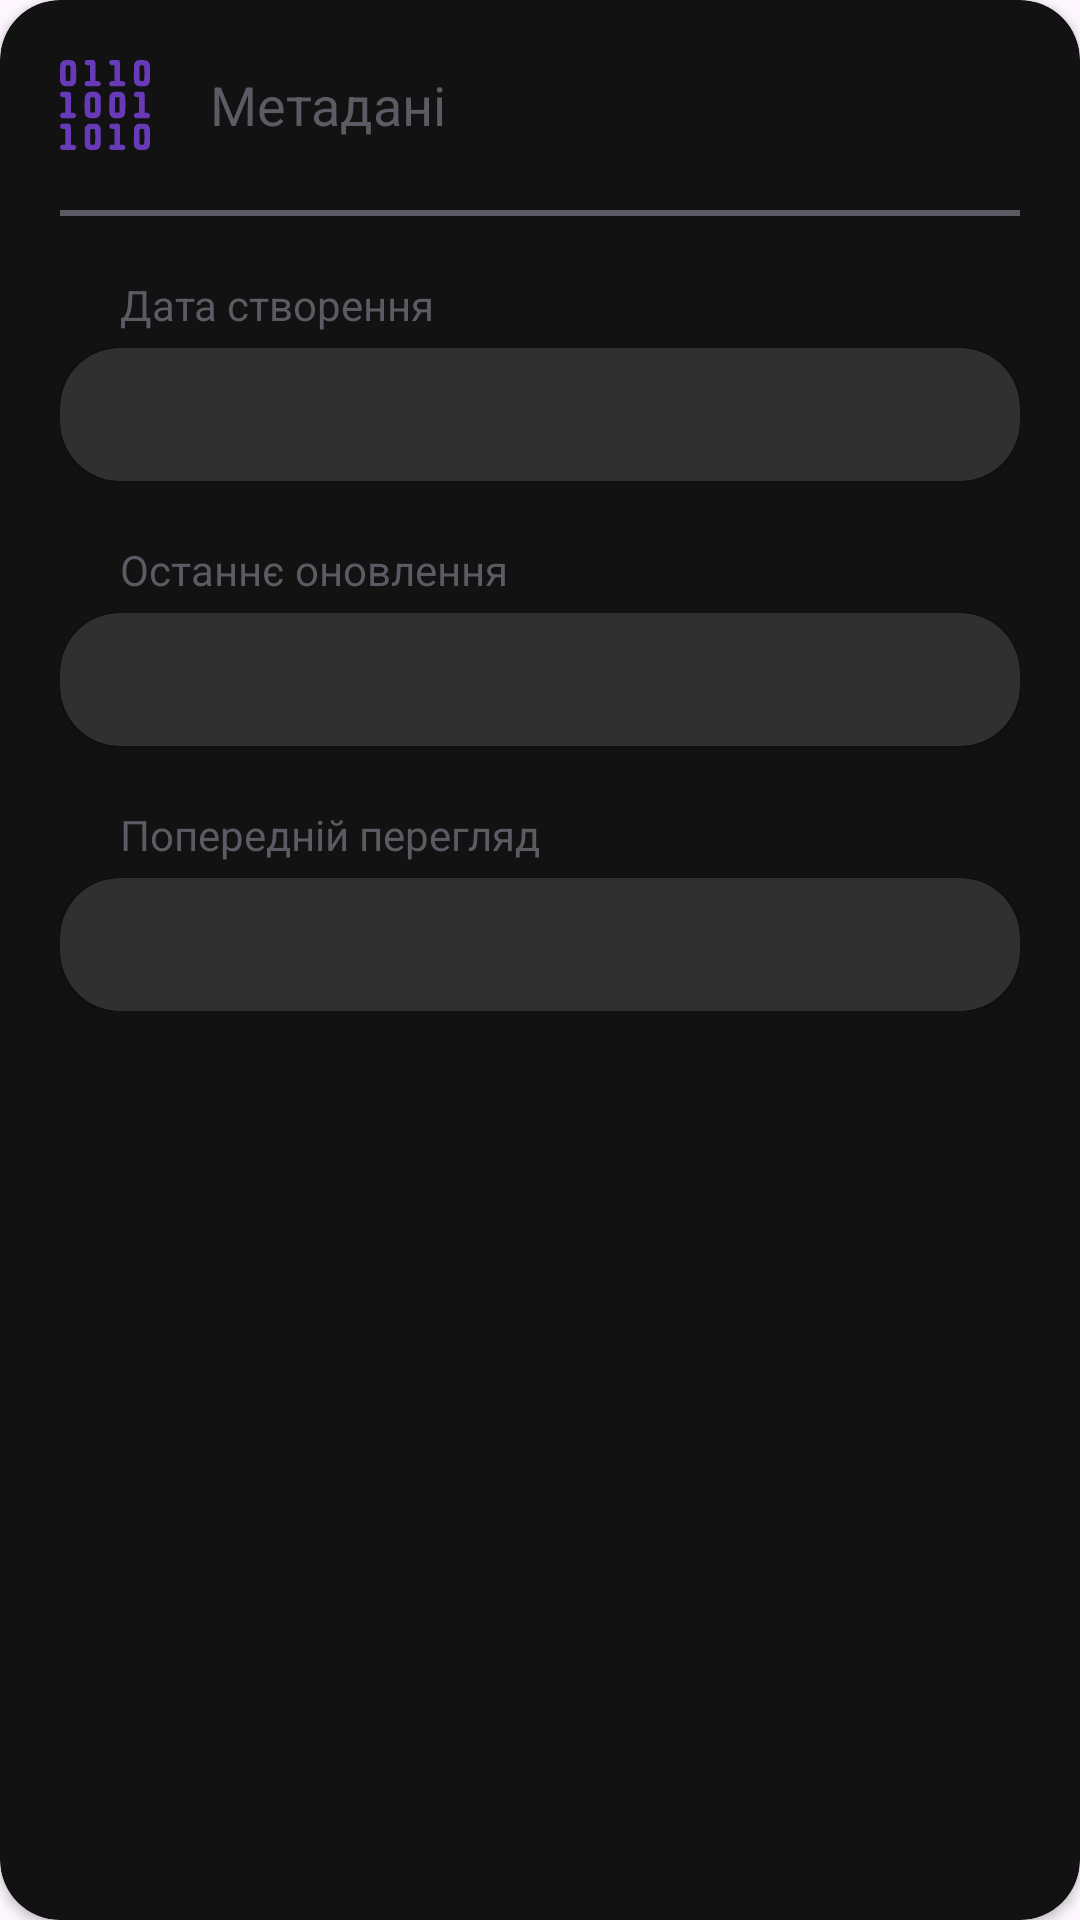

Named icons in this screenshot (1080w x 1920h) and their bounding boxes, box=[x1, y1, x2, y2]:
binary: box=[60, 60, 150, 150]
